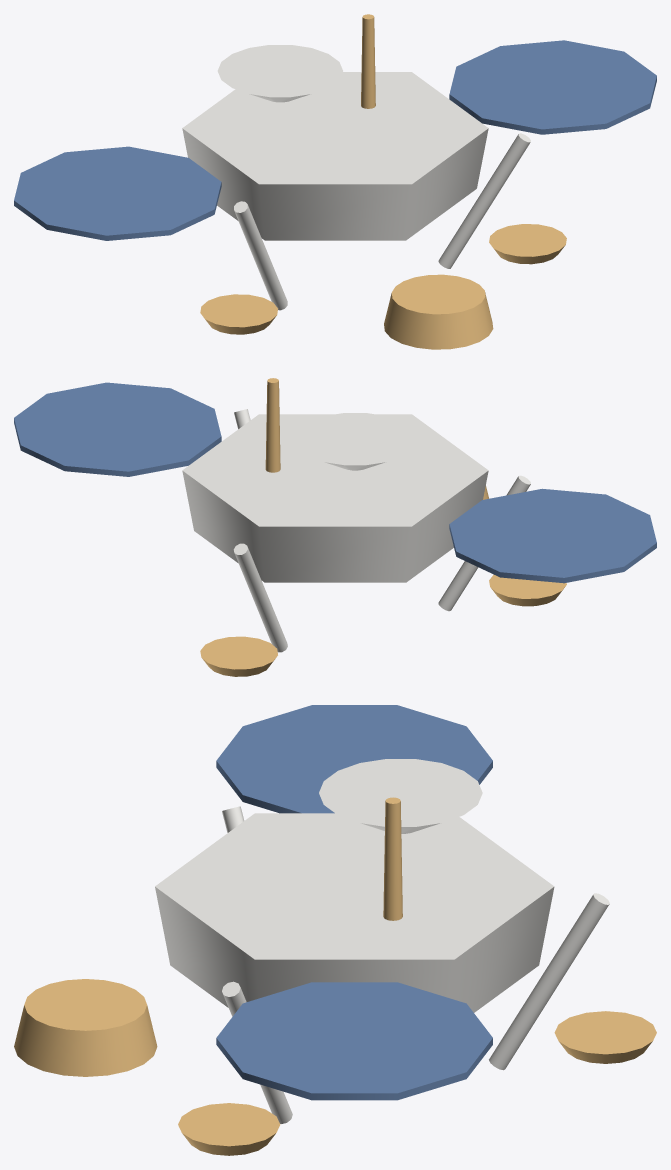
The model's file is mars-lander.glb.
3 views of the same model, one above another, from view 1: azimuth 30°, elevation 25°; view 2: azimuth 150°, elevation 25°; view 3: azimuth 270°, elevation 25° (orthographic). The views are drawn at different scales.
Size of the model in its own units: 3.59 by 1.28 by 2.51.
